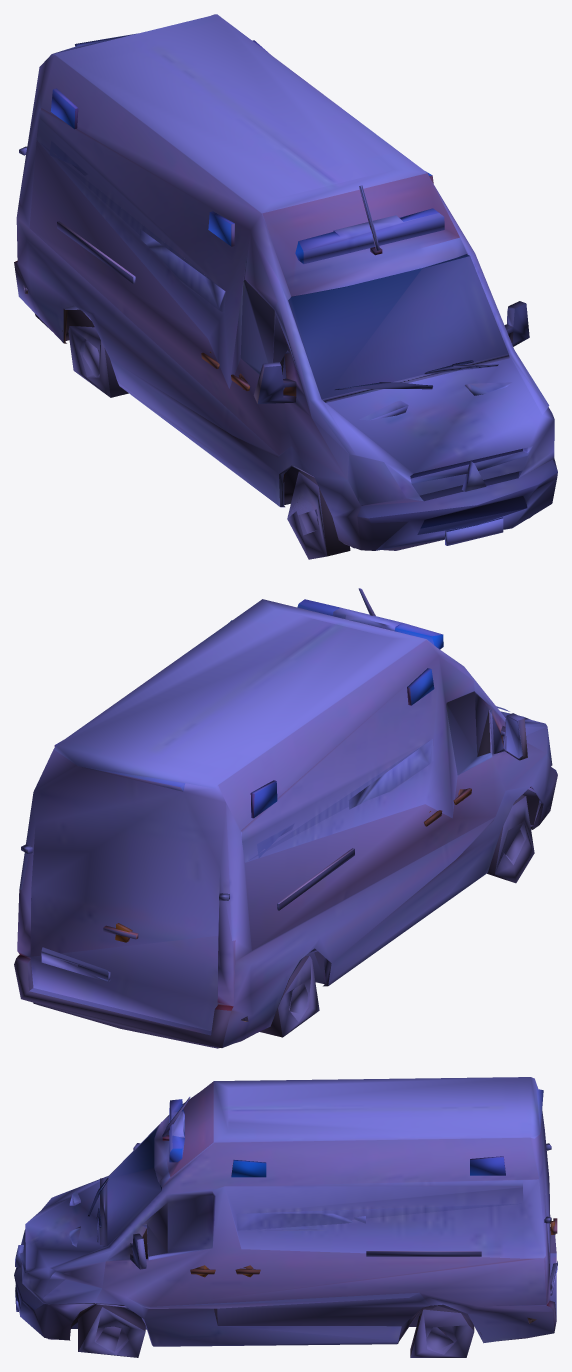
The model's file is model.progressive.glb.
3 renders of one model, top to bottom at view 1: azimuth 30°, elevation 25°; view 2: azimuth 150°, elevation 25°; view 3: azimuth 270°, elevation 25°, orthographic. The views are drawn at different scales.
Visible parts, largest first — view 1: material; view 2: material; view 3: material.
Part boxes in pixels (x1,y1,x2,y2): material: (14,14,557,559); material: (14,588,557,1048); material: (14,1077,557,1357).
Size of the model in its own units: 0.826 by 0.8982 by 1.89.
Materials: 1 (1 with a texture image).
